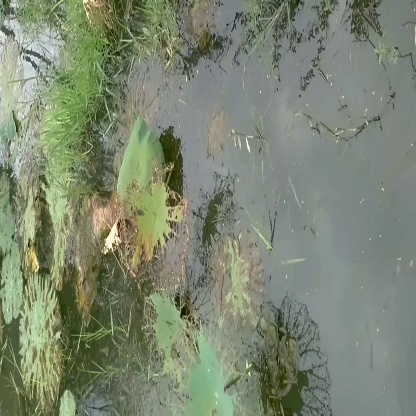leaf: (122, 177, 189, 269)
